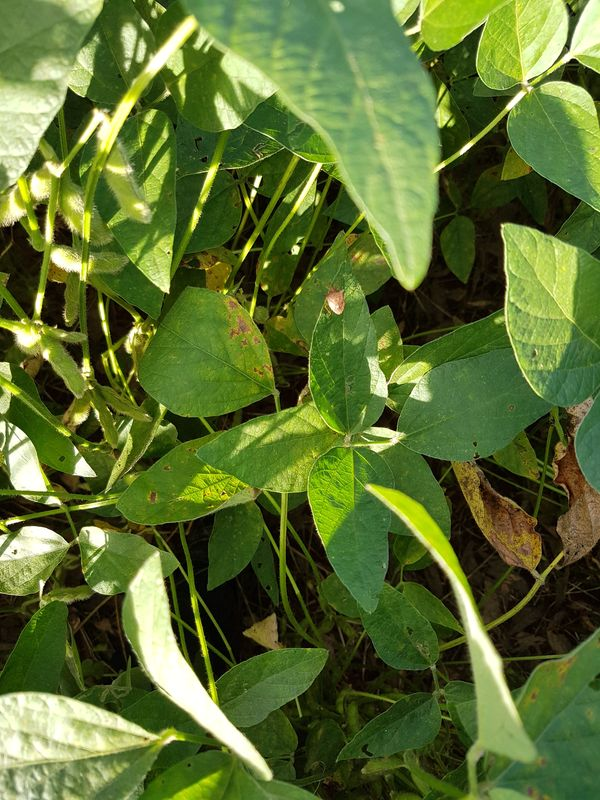Euschistus_heros_adulto: (317, 282, 352, 320)
